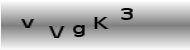3: (120, 7, 134, 21)
K: (93, 16, 110, 31)
V: (47, 24, 66, 40)
g: (71, 24, 86, 38)
v: (21, 18, 35, 29)
